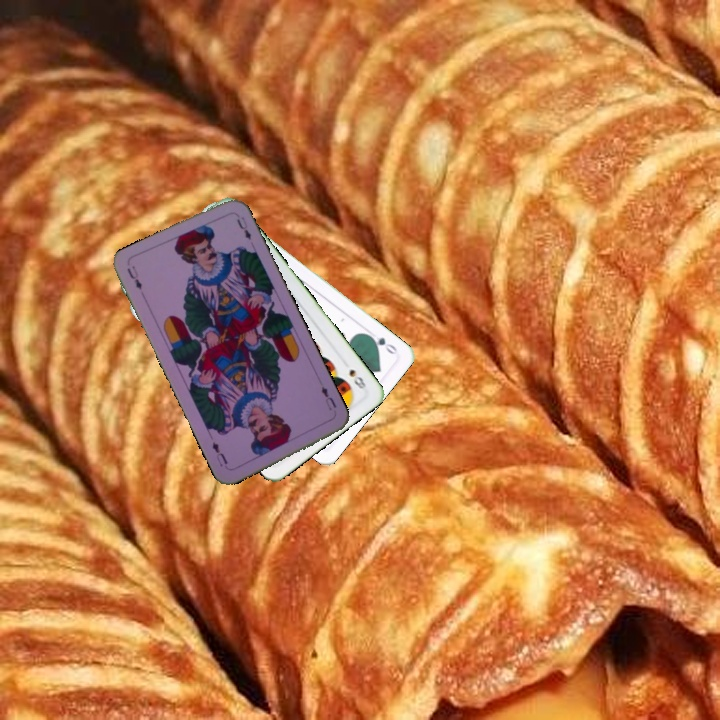EU: (317, 382, 339, 413), (123, 261, 145, 292)
GO: (363, 330, 400, 357)
S8: (345, 365, 369, 391)
